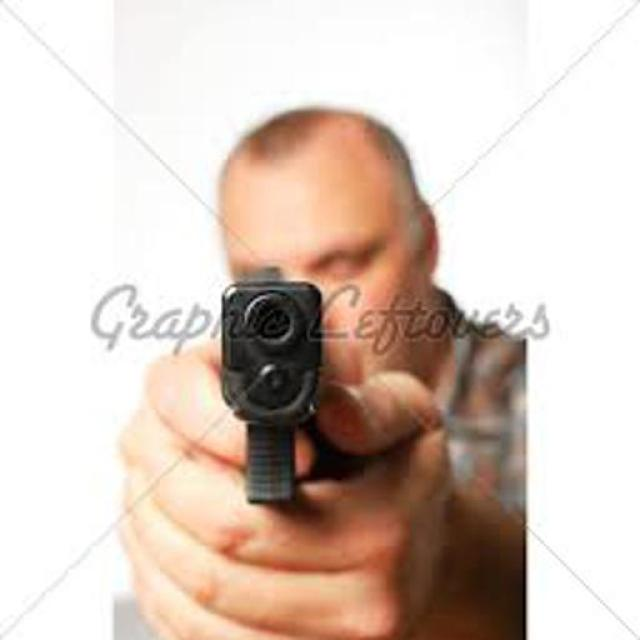pistol: (213, 259, 329, 511)
